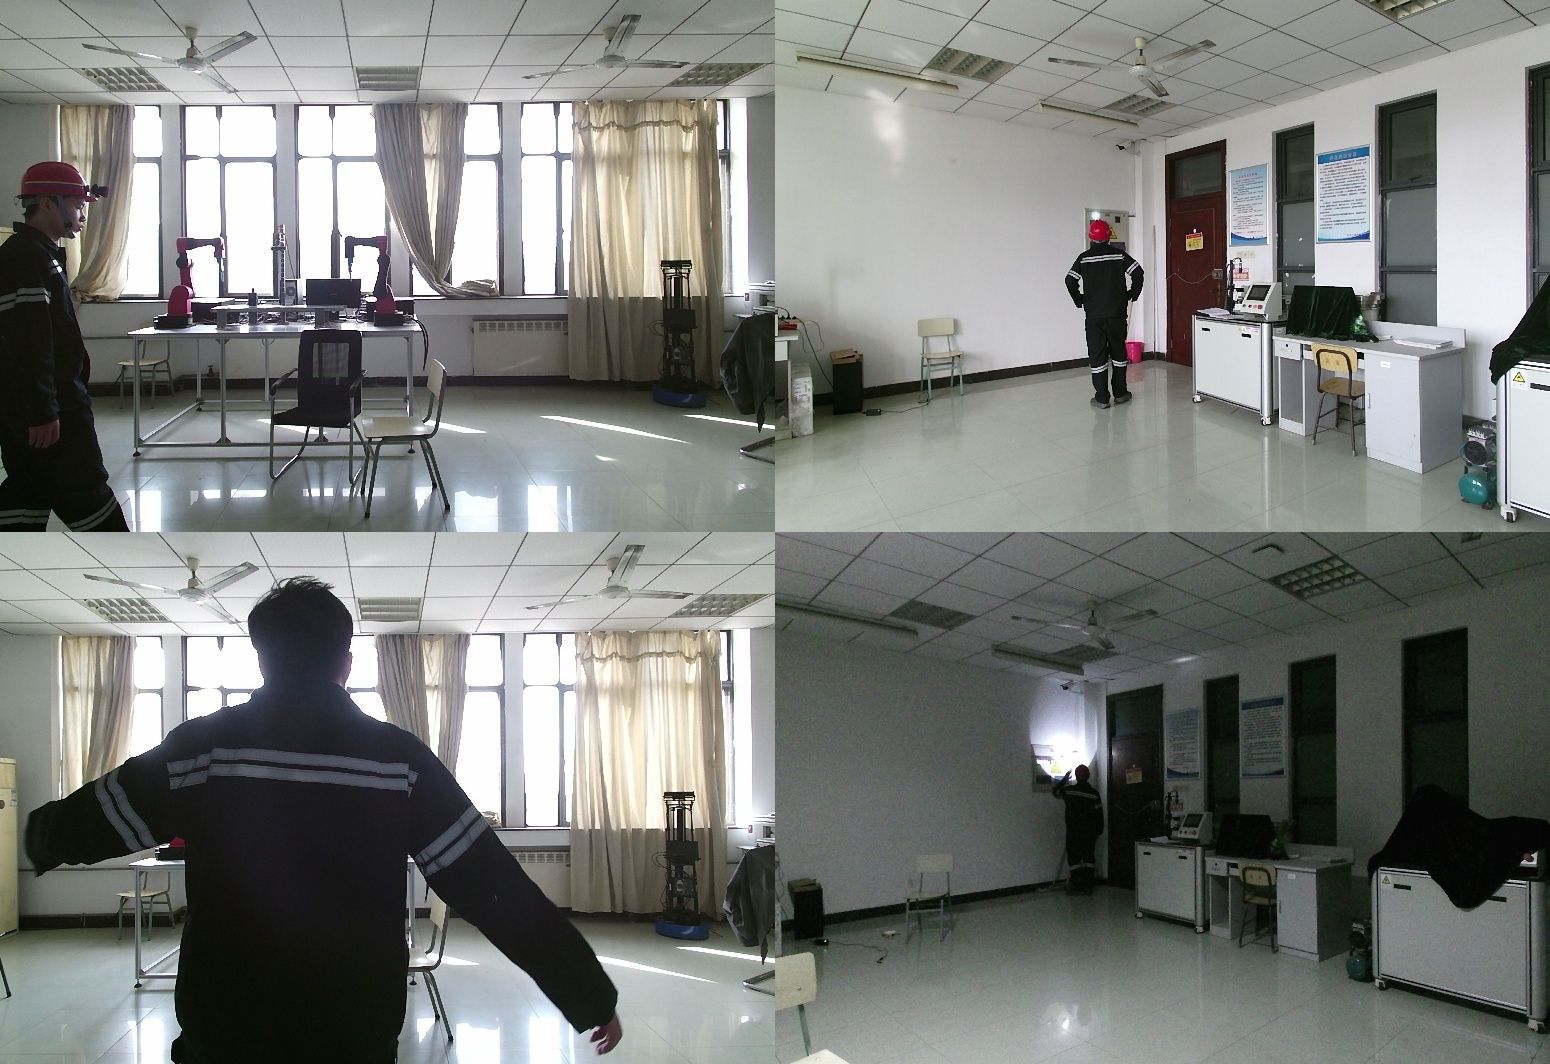person: (28, 583, 618, 1064), (1, 163, 131, 532), (1065, 221, 1149, 420), (1049, 765, 1110, 898)
